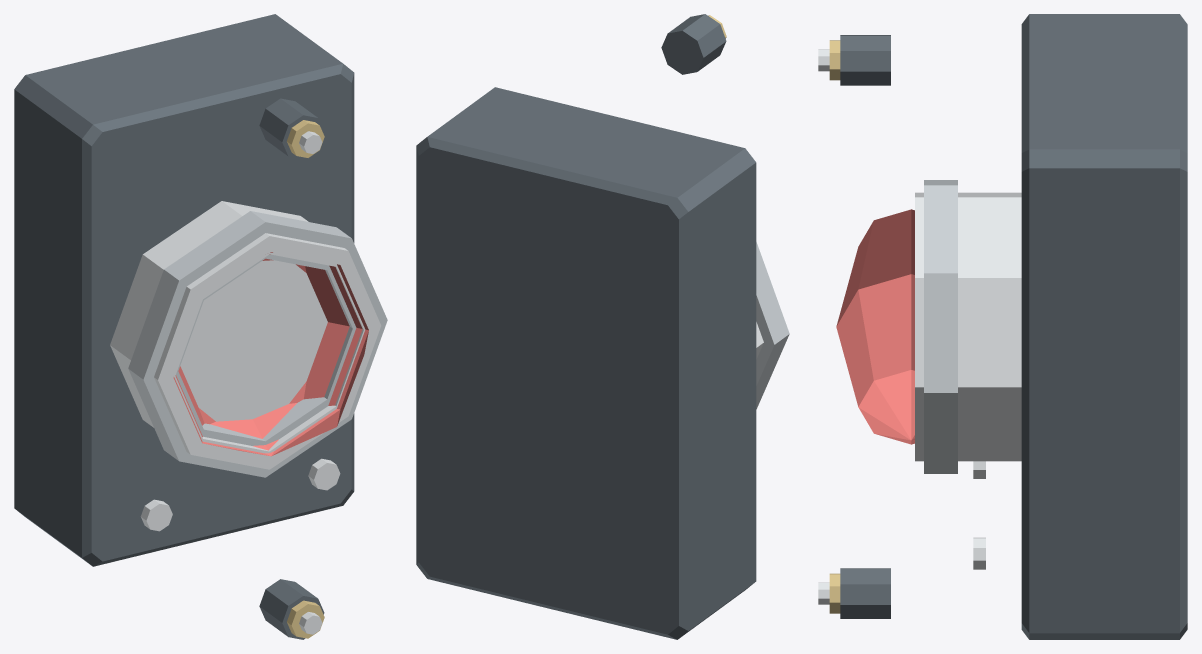
The model's file is indicator.glb.
The picture shows the model from 3 angles, left to right: view 1: azimuth 30°, elevation 25°; view 2: azimuth 150°, elevation 25°; view 3: azimuth 270°, elevation 25°; orthographic projection. The views are drawn at different scales.
Visible parts, largest first — view 1: indicator-board; view 2: indicator-board; view 3: indicator-board.
Boxes of the visible parts, box(x1,y1,x2,y2) form: indicator-board: box(14, 14, 387, 639); indicator-board: box(416, 14, 789, 639); indicator-board: box(818, 14, 1187, 639).
Size of the model in its own units: 1.24 by 2.27 by 1.31.
